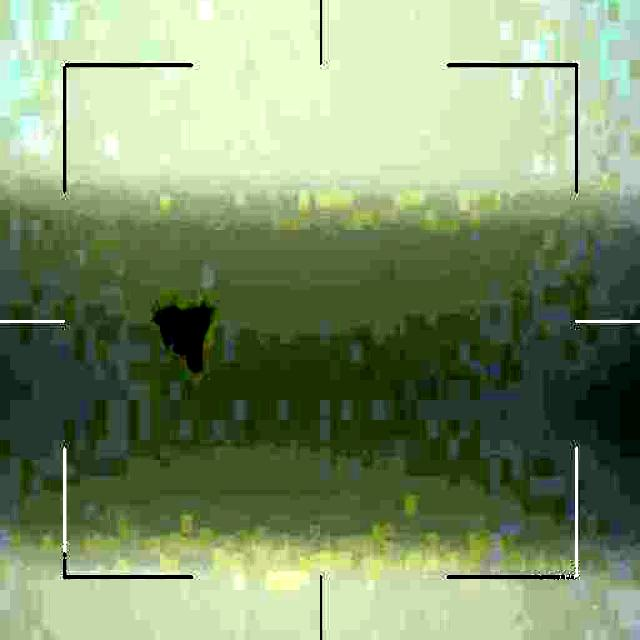bird: (156, 298, 222, 372)
